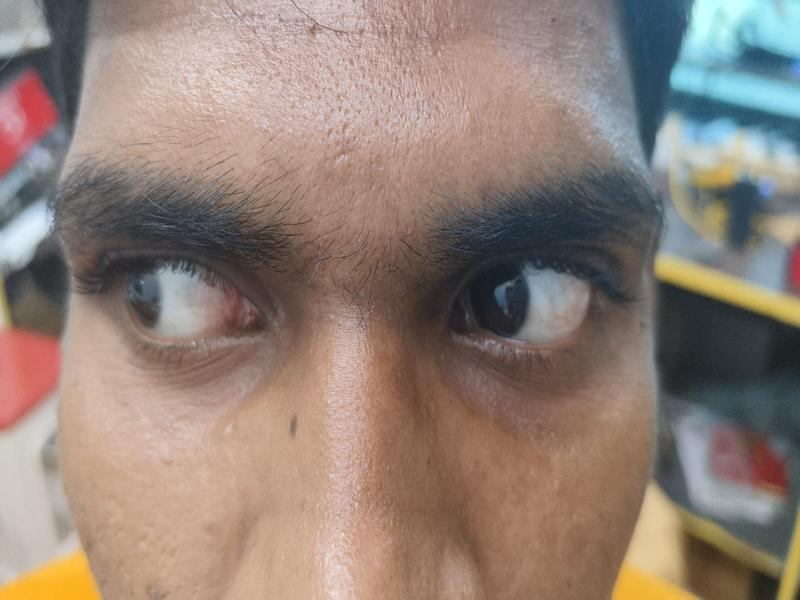EYE RIGHT: (99, 261, 256, 342), (469, 267, 595, 345)
